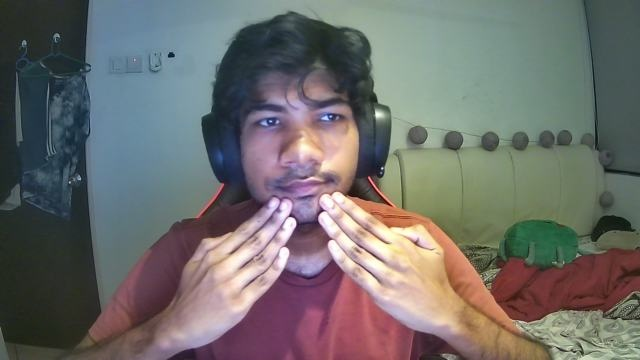Thank You: (171, 189, 465, 345)
